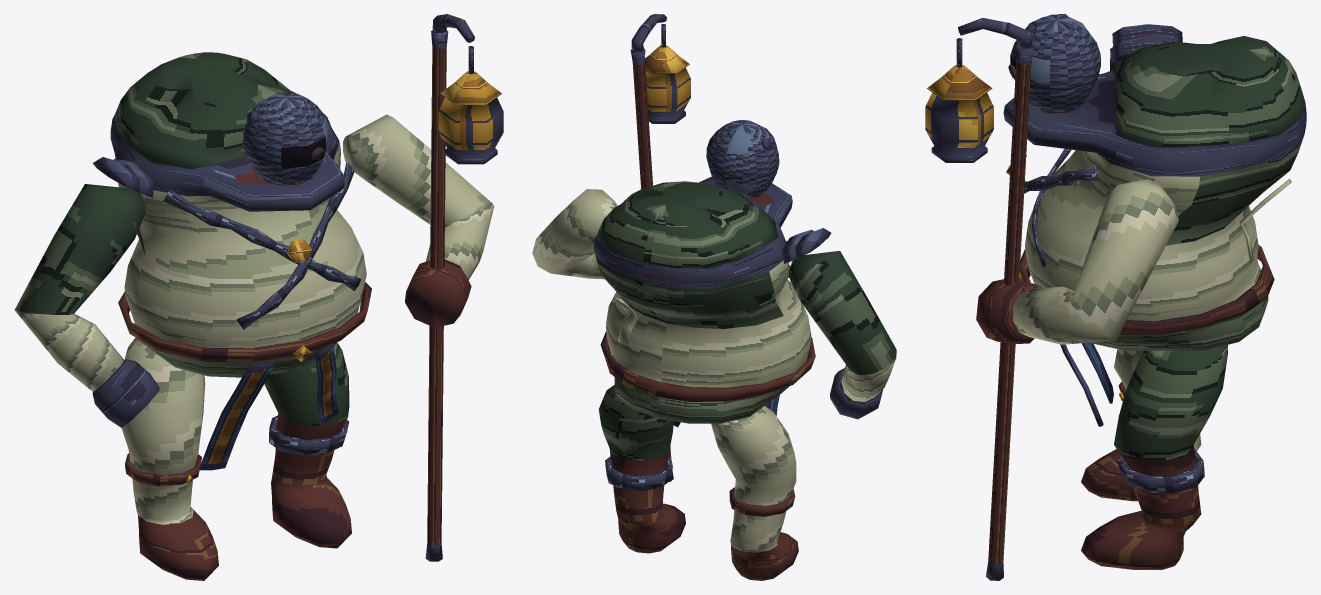
Rendered from gruftwaechter_J2.glb.
The picture shows the model from 3 angles, left to right: view 1: azimuth 30°, elevation 25°; view 2: azimuth 150°, elevation 25°; view 3: azimuth 270°, elevation 25°; orthographic projection. The views are drawn at different scales.
Visible parts, largest first — view 1: torso, arm_l, gear, leg_l, arm_r, pole, leg_r, head; view 2: torso, arm_l, leg_l, leg_r, gear, pole, arm_r, head; view 3: torso, leg_r, arm_r, pole, gear, head, leg_l, arm_l.
Part boxes in pixels (x1=…): torso: x1=110, y1=52, x2=366, y2=377; arm_l: x1=14, y1=157, x2=159, y2=427; gear: x1=118, y1=110, x2=371, y2=486; leg_l: x1=121, y1=337, x2=218, y2=580; arm_r: x1=343, y1=114, x2=494, y2=327; pole: x1=425, y1=14, x2=503, y2=561; leg_r: x1=264, y1=342, x2=351, y2=548; head: x1=243, y1=92, x2=328, y2=185; torso: x1=594, y1=176, x2=811, y2=423; arm_l: x1=782, y1=228, x2=896, y2=419; leg_l: x1=711, y1=406, x2=798, y2=580; leg_r: x1=598, y1=385, x2=685, y2=553; gear: x1=600, y1=138, x2=815, y2=516; pole: x1=630, y1=14, x2=690, y2=481; arm_r: x1=532, y1=189, x2=617, y2=279; head: x1=706, y1=120, x2=779, y2=198; torso: x1=1003, y1=36, x2=1306, y2=350; leg_r: x1=1081, y1=345, x2=1227, y2=569; arm_r: x1=976, y1=178, x2=1178, y2=344; pole: x1=925, y1=18, x2=1033, y2=580; gear: x1=1006, y1=14, x2=1291, y2=492; head: x1=1010, y1=14, x2=1100, y2=112; leg_l: x1=1081, y1=349, x2=1201, y2=501; arm_l: x1=1110, y1=24, x2=1182, y2=70.
Size of the model in its own units: 2.16 by 2.52 by 1.5.
1 material, 1 textured.
